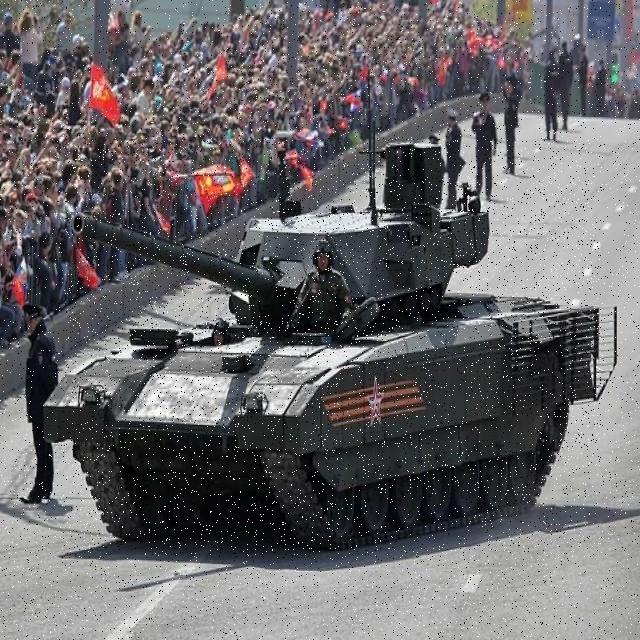MIL_MBT: (65, 139, 601, 557)
